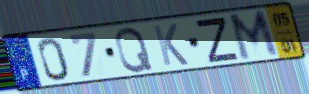0: (35, 35, 72, 82)
7: (68, 30, 100, 79)
K: (151, 22, 191, 68)
M: (226, 8, 281, 64)
Q: (113, 25, 155, 74)
Z: (192, 16, 241, 65)
